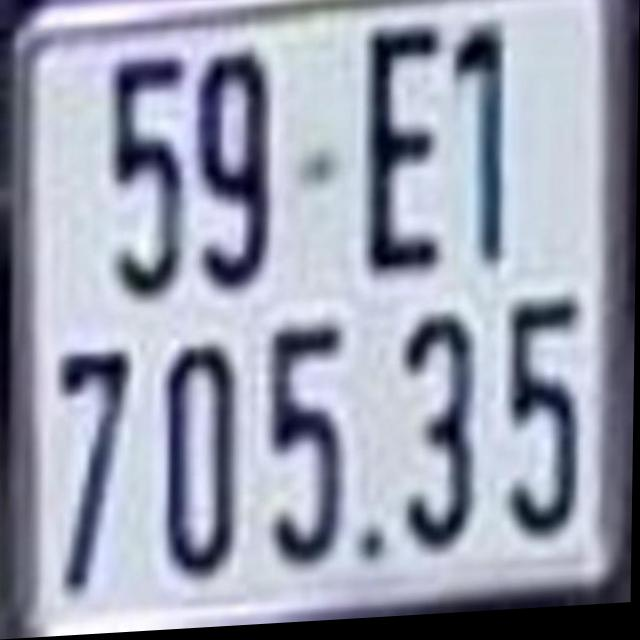0: (164, 345, 238, 582)
1: (455, 31, 509, 270)
3: (399, 316, 483, 561)
5: (109, 50, 185, 298), (510, 302, 586, 537), (269, 332, 343, 568)
7: (56, 344, 132, 585)
9: (192, 56, 280, 292)
E: (364, 28, 444, 273)
